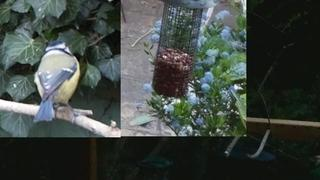blue tit: (33, 40, 81, 122)
